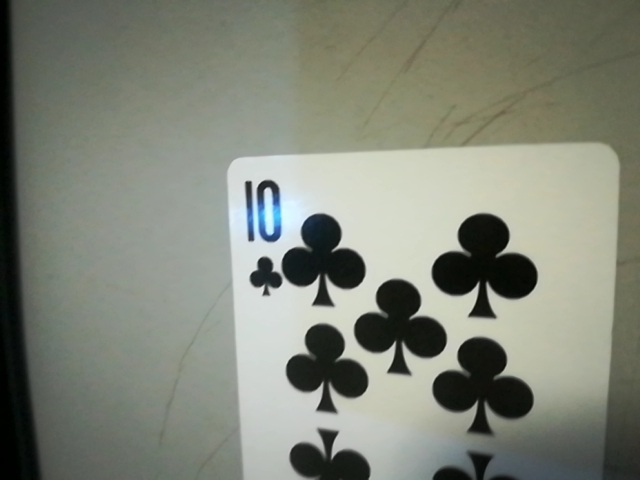mh 10: (226, 165, 291, 300)
